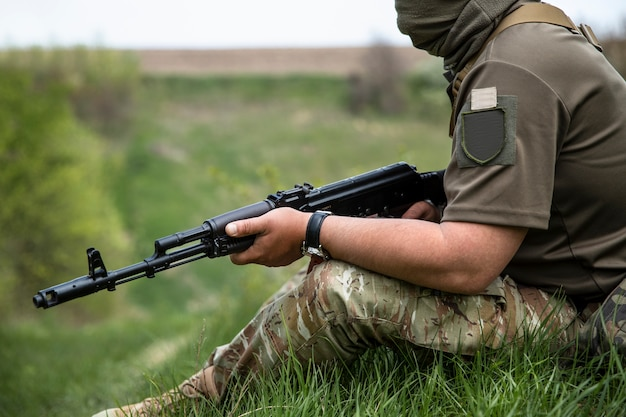gun: (31, 158, 446, 310)
